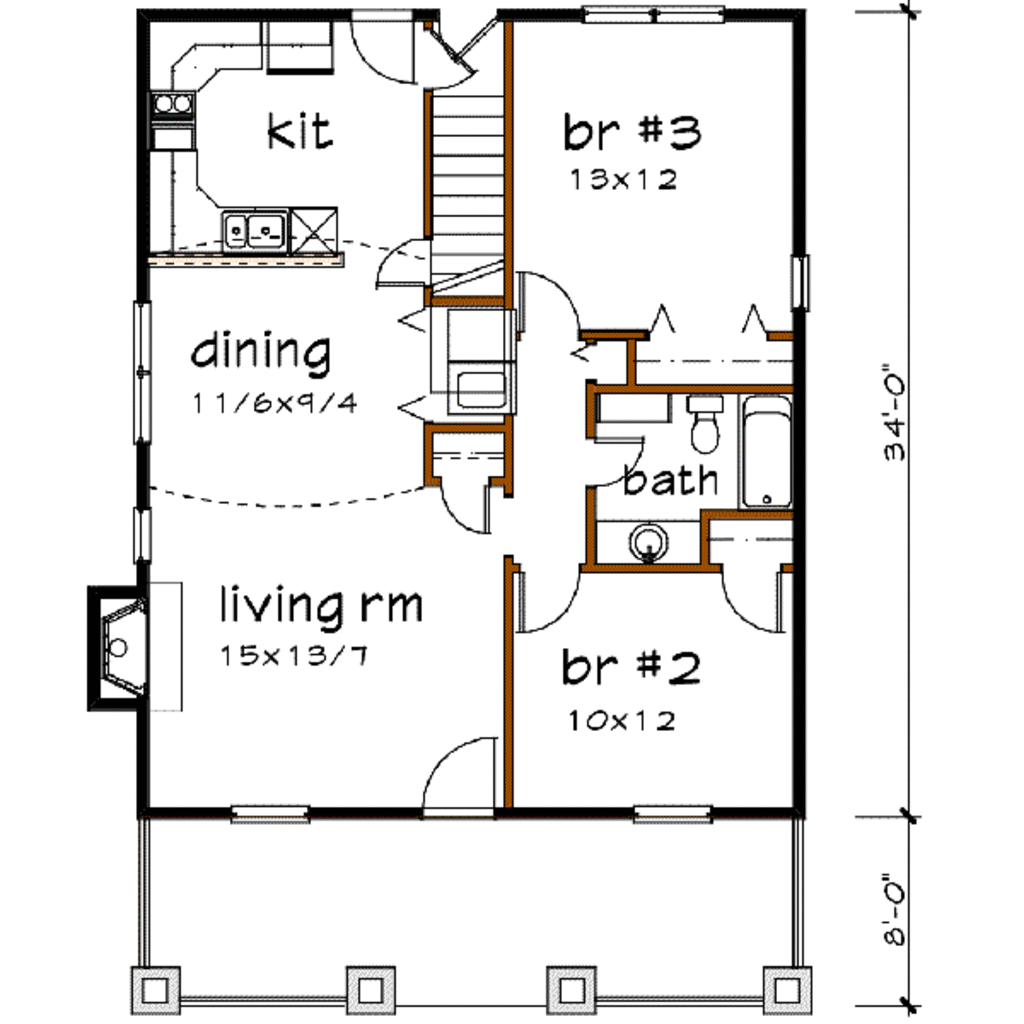door: (407, 737, 504, 815), (502, 266, 583, 343), (347, 9, 413, 90), (720, 571, 786, 633), (520, 568, 582, 628), (578, 439, 644, 495), (421, 30, 472, 92), (445, 478, 490, 536), (442, 14, 493, 54), (382, 243, 428, 281)
kitchen_bar: (140, 17, 220, 254)
large_sink: (686, 395, 729, 460)
small_sink: (594, 522, 694, 570)
stairs: (434, 92, 501, 293)
tub: (747, 393, 791, 506)
twin_sink: (220, 206, 293, 252)
window: (585, 5, 723, 28), (136, 309, 150, 441), (626, 806, 710, 822), (791, 254, 809, 316), (237, 803, 302, 819)
